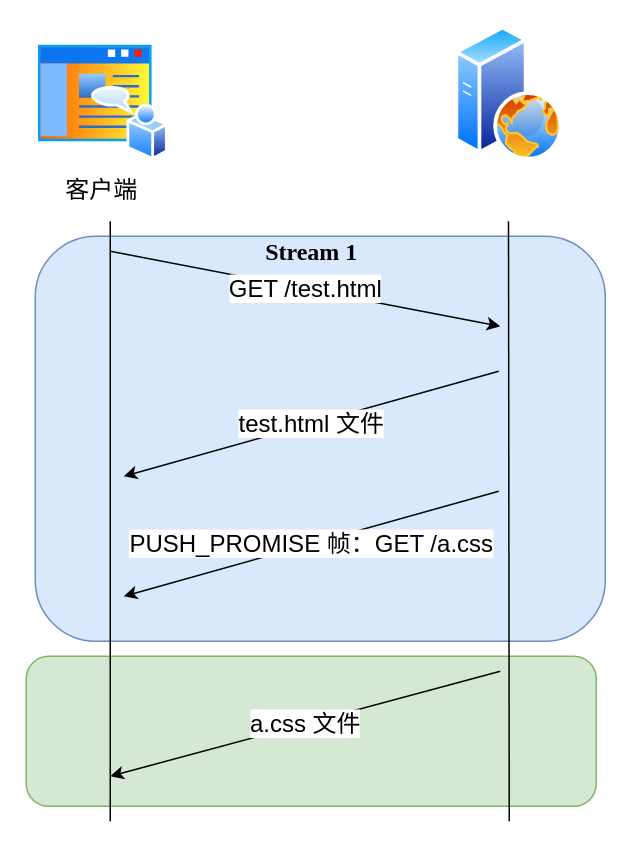
Some shapes in this 632 by 849 pixel diagram are drawn without their labels. Each missing label, with the box of its shape:
Stream 2: (25, 655, 596, 806)
服务器: (454, 26, 562, 160)
